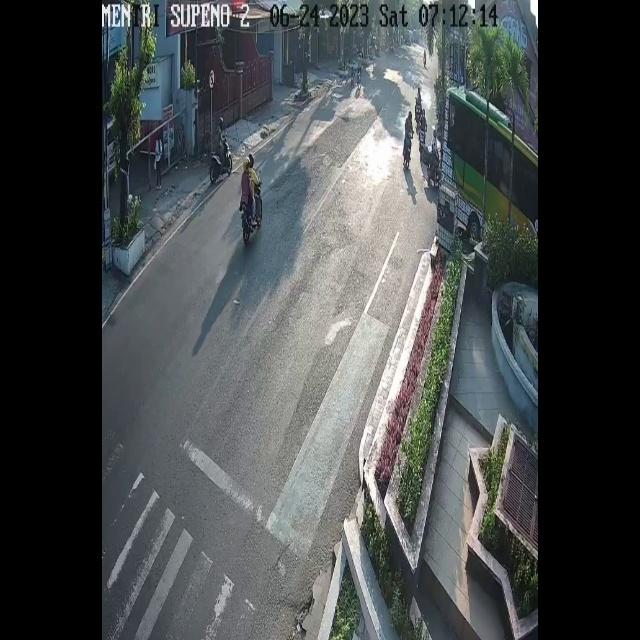bus: (240, 174, 264, 248), (208, 136, 232, 184), (404, 128, 414, 170), (414, 97, 422, 126), (420, 129, 426, 165)
car: (440, 86, 539, 246)
